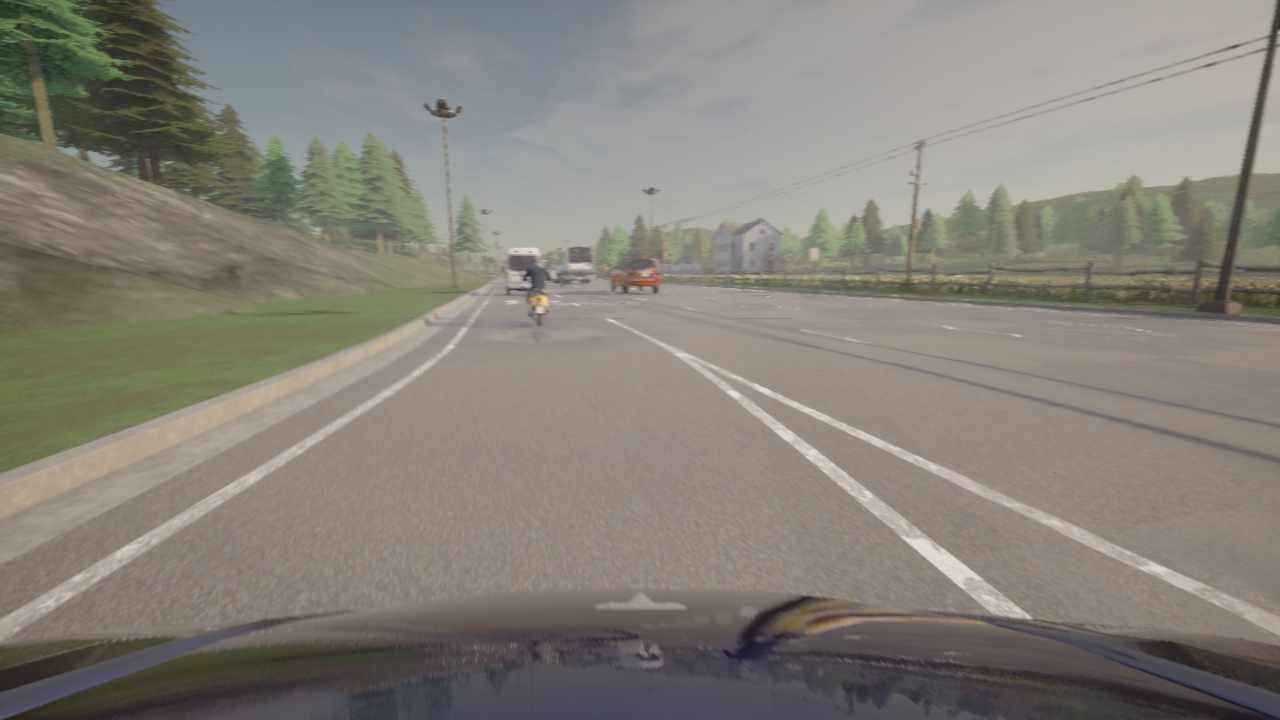cyclist: (0, 588, 1279, 719), (501, 247, 541, 296), (518, 272, 553, 326), (609, 259, 660, 293), (554, 246, 594, 283), (545, 271, 563, 285)
